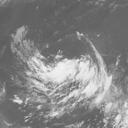cyclone: (41, 55, 110, 110)
